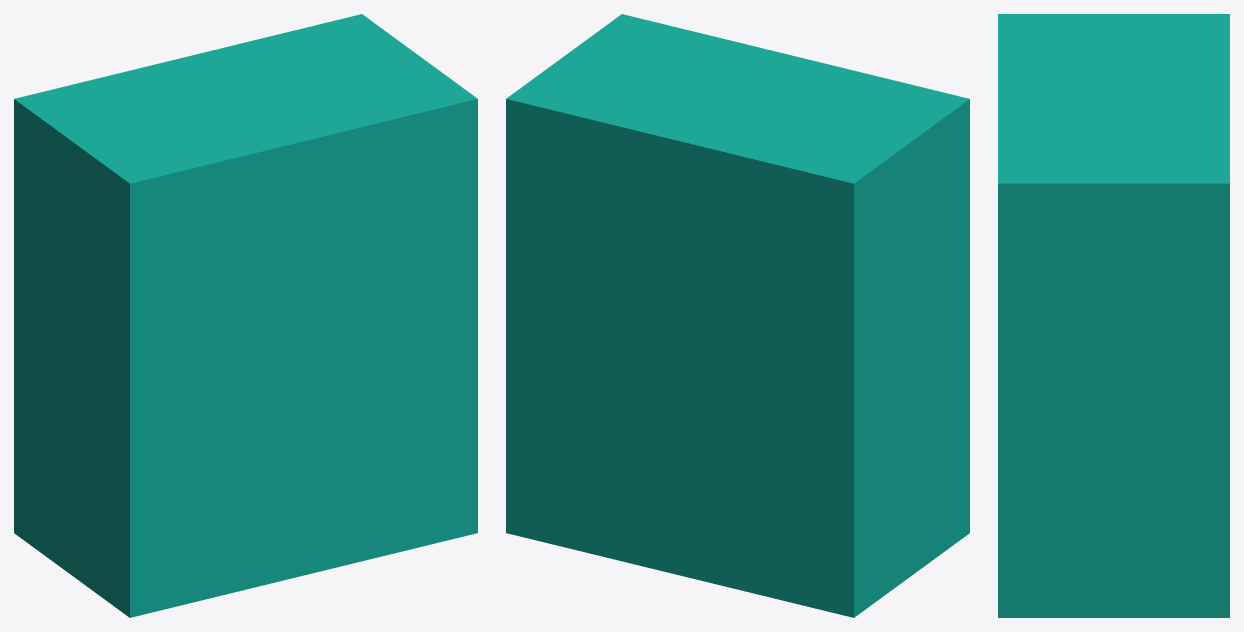
File: character-avecilla.glb
3 views of the same model, side by side, from view 1: azimuth 30°, elevation 25°; view 2: azimuth 150°, elevation 25°; view 3: azimuth 270°, elevation 25° (orthographic).
Parts seen in each view (by area): view 1: Torso; view 2: Torso; view 3: Torso.
Boxes of the visible parts, left/top/right/bottom form: Torso: left=14, top=14, right=477, bottom=617; Torso: left=506, top=14, right=969, bottom=617; Torso: left=998, top=14, right=1229, bottom=617.
Bounding box in the file's own units: 0.52 × 0.62 × 0.3.
